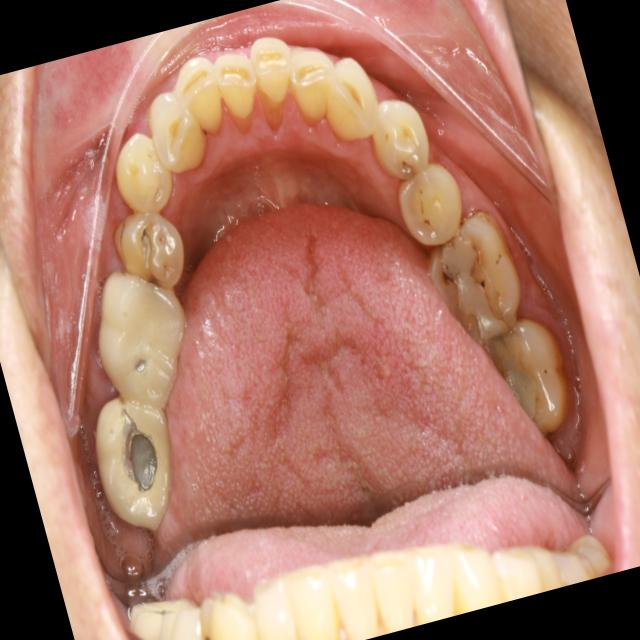tooth: (72, 248, 218, 436), (401, 187, 541, 362), (70, 376, 199, 547), (468, 293, 587, 446), (304, 28, 397, 166), (379, 144, 482, 268), (357, 74, 448, 205), (135, 72, 225, 189), (161, 37, 246, 157), (268, 22, 353, 142), (196, 20, 274, 147), (233, 10, 312, 127), (100, 122, 187, 226), (110, 198, 197, 301)
